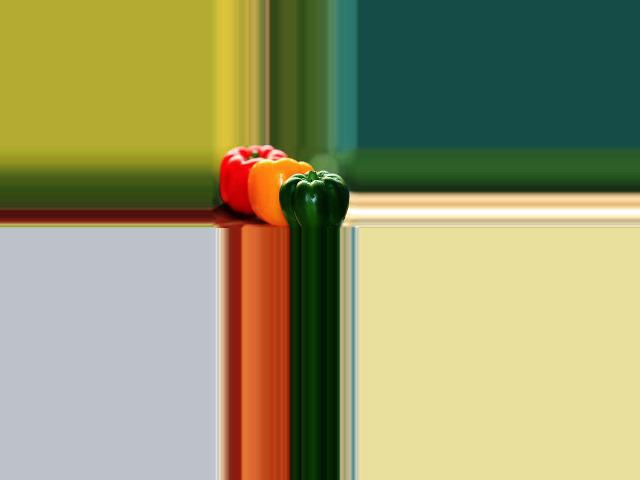bell_pepper: (220, 145, 287, 224)
